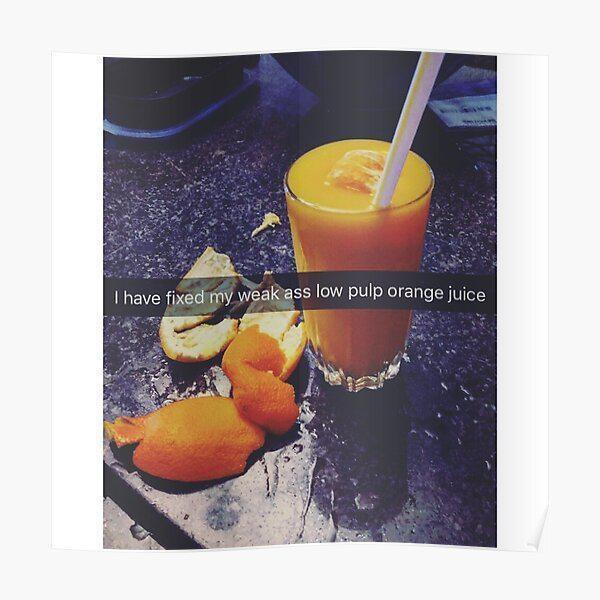glass-normal: (282, 139, 436, 390)
